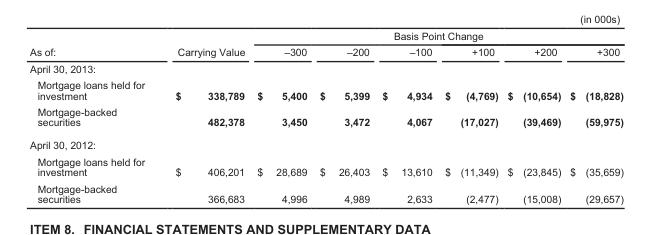table: (29, 29, 622, 204)
table column: (29, 29, 159, 204), (159, 29, 250, 204), (437, 29, 502, 204), (312, 29, 375, 204), (250, 29, 312, 204), (375, 29, 437, 204), (502, 29, 564, 204), (564, 29, 622, 204)
table column header: (29, 29, 622, 59)
table projected row header: (29, 133, 622, 153), (29, 59, 622, 76)
table row: (29, 103, 622, 133), (29, 76, 622, 103), (29, 153, 622, 180), (29, 180, 622, 204), (29, 133, 622, 153), (29, 59, 622, 76), (29, 43, 622, 59), (29, 29, 622, 43)
table spanning cell: (250, 29, 622, 43), (29, 29, 159, 59), (159, 29, 250, 59)
